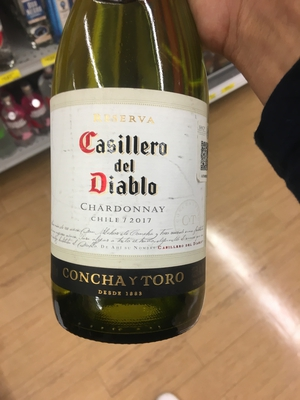casillero del diablo chardonnay: (52, 13, 209, 329)
